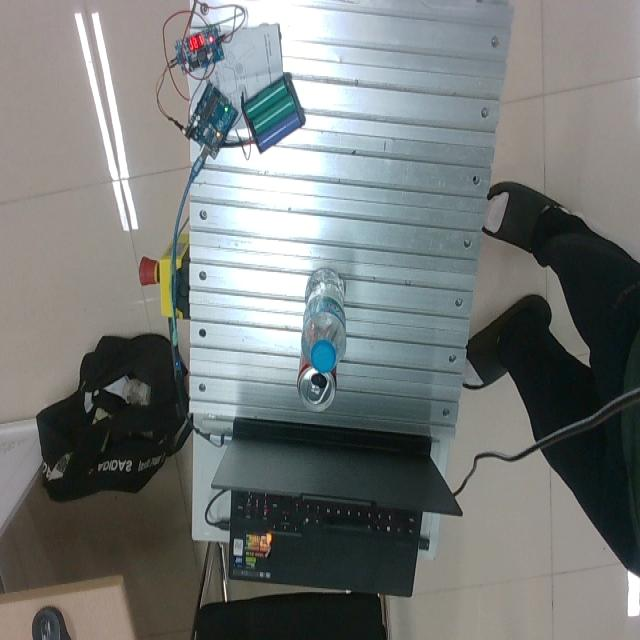coca: (296, 344, 337, 412)
lavie: (300, 270, 347, 378)
